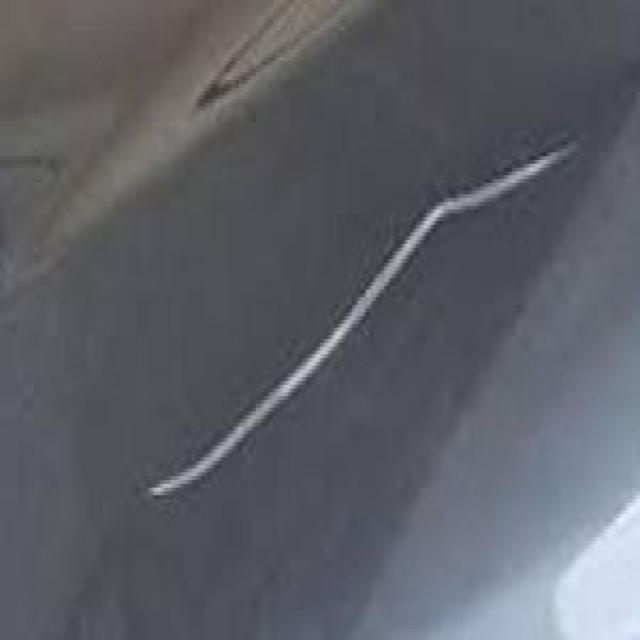scratch: (126, 118, 589, 518)
